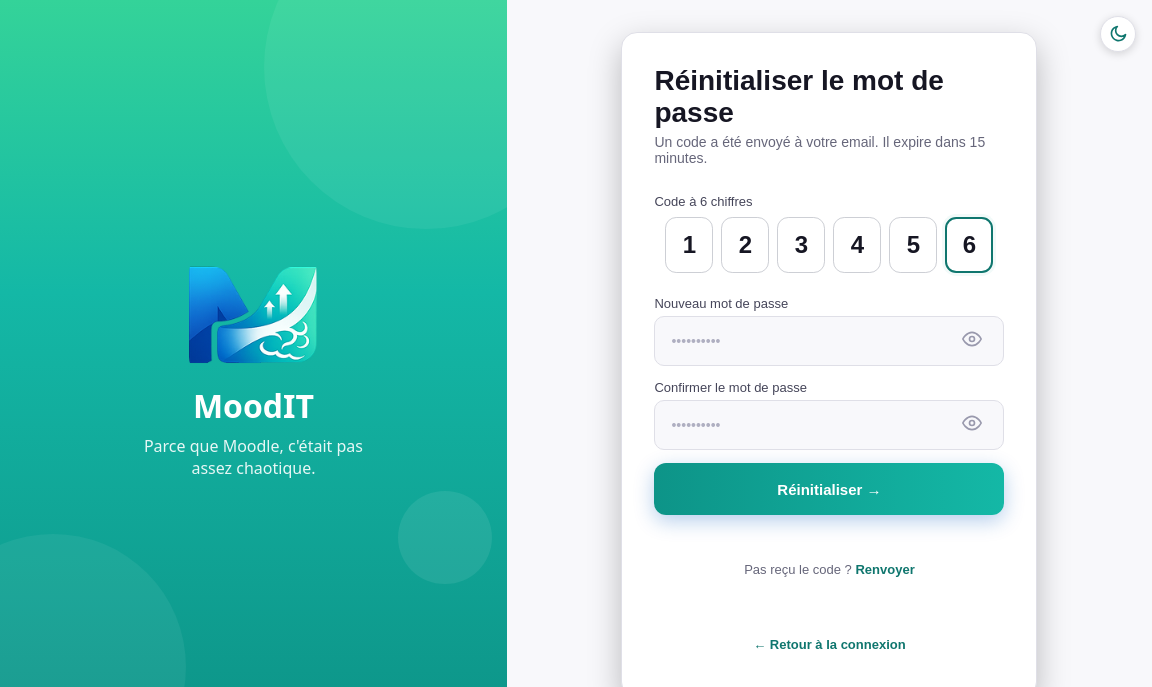
it: ResetPassword › mot de passe « Nouveau1! » / confirmation « Autre1!xx » : ⚠ Les mots de passe ne correspondent pas, code non surligné
The width and height of the screenshot is (1152, 687).
Type "Nouveau1!" into the password field with placeholder "••••••••••" below "Nouveau mot de passe" at (829,341), box [654,316,1004,366]
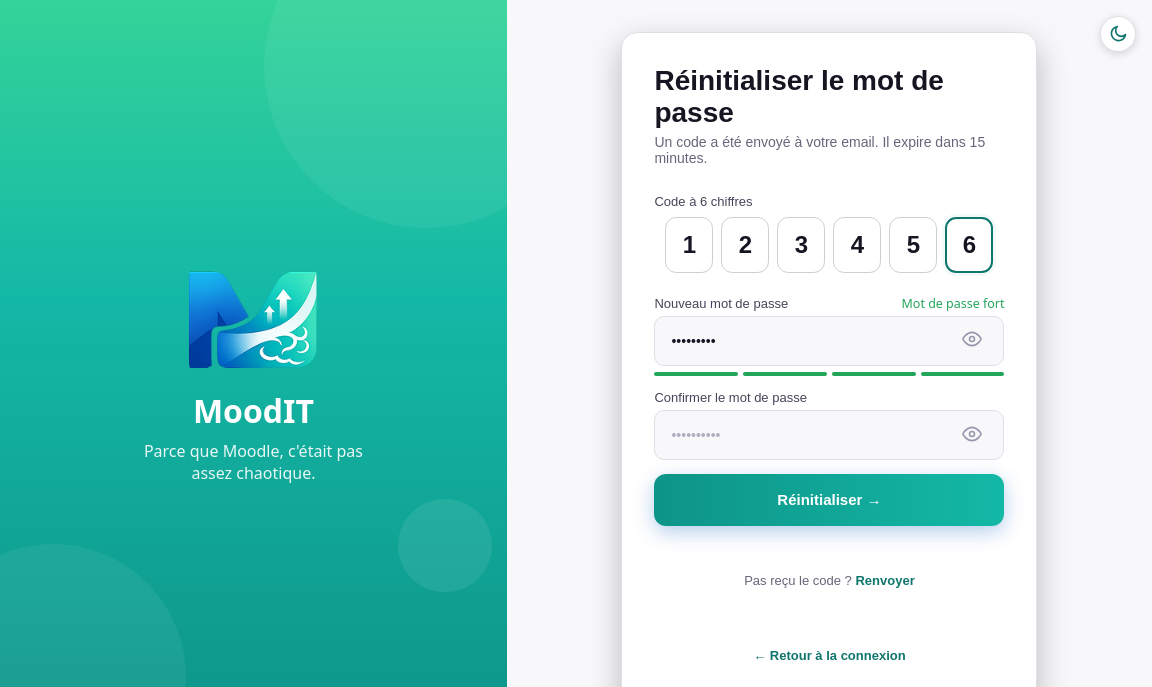
Type "Autre1!xx" into the password field with placeholder "••••••••••" at (829,435), box [654,410,1004,460]
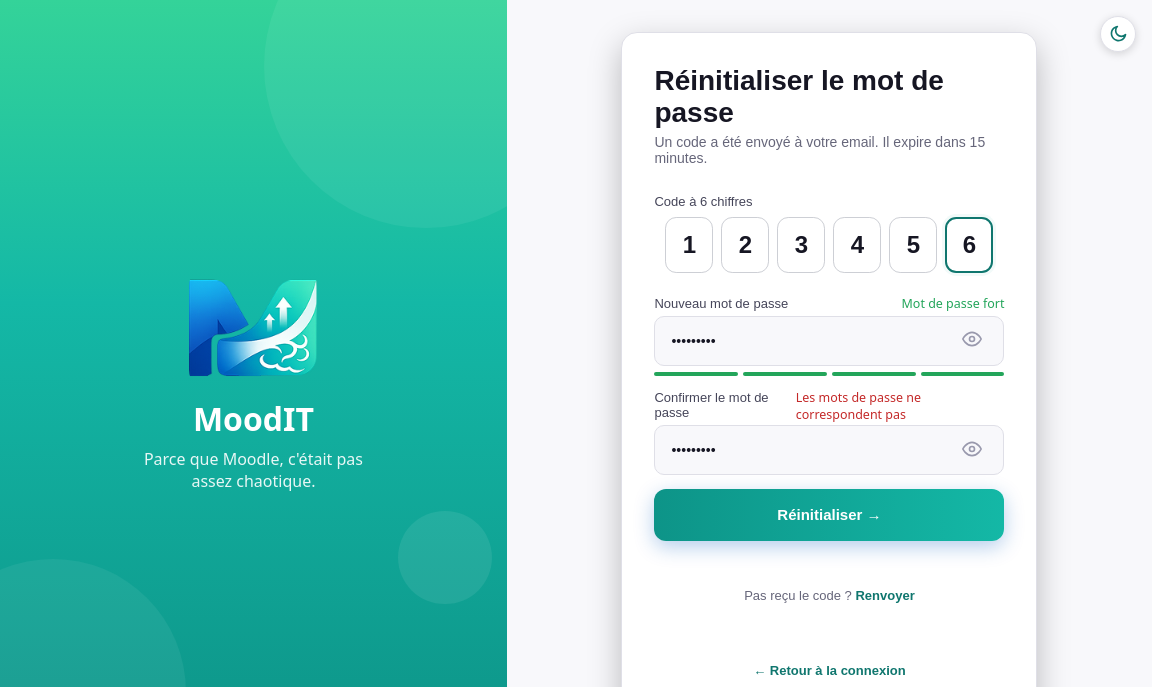
Click the button "Réinitialiser →" at (829,515), box [654,489,1004,541]
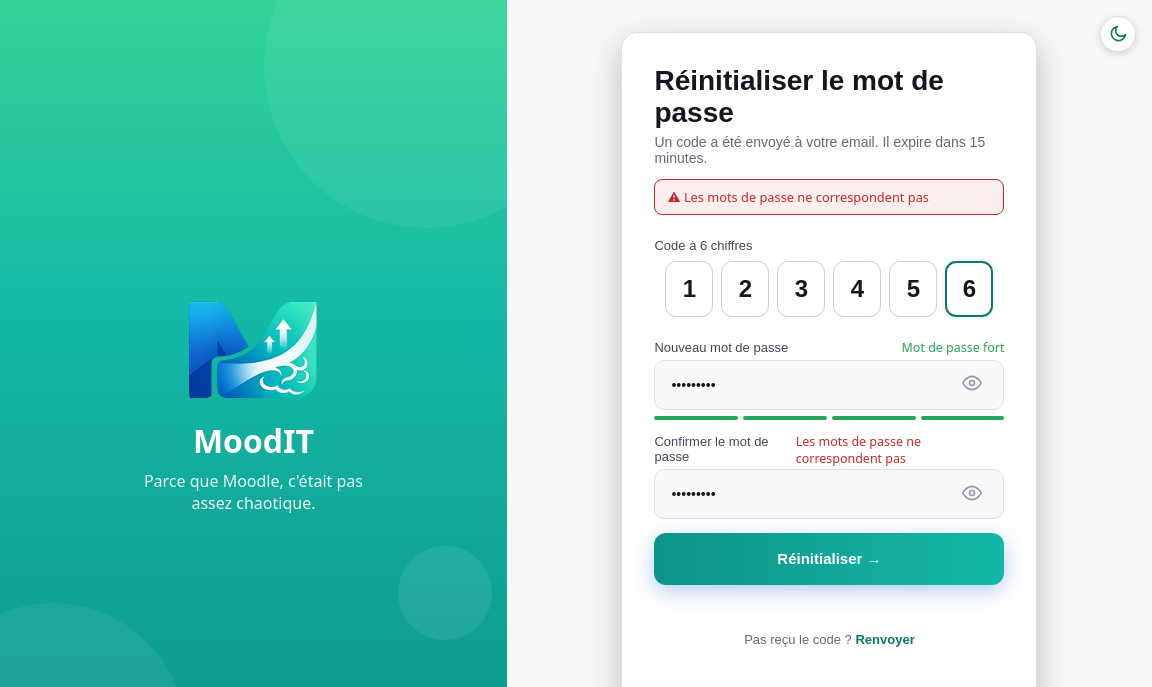
Expected: the text with class "server-error" reads "⚠ Les mots de passe ne correspondent pas", [654,179,1004,215]
